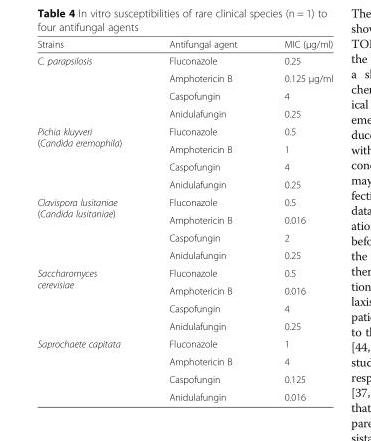table: (36, 36, 332, 402)
table column: (144, 36, 260, 402), (36, 36, 144, 402), (260, 36, 332, 402)
table column header: (36, 36, 332, 52)
table row: (36, 68, 332, 86), (36, 86, 332, 104), (36, 104, 332, 122), (36, 139, 332, 157), (36, 157, 332, 175), (36, 175, 332, 193), (36, 210, 332, 228), (36, 228, 332, 246), (36, 263, 332, 281), (36, 281, 332, 299), (36, 316, 332, 334), (36, 334, 332, 352), (36, 352, 332, 370), (36, 122, 332, 139), (36, 193, 332, 210), (36, 246, 332, 263), (36, 299, 332, 316), (36, 370, 332, 387), (36, 36, 332, 52), (36, 52, 332, 68), (36, 387, 332, 402)
table spanning cell: (36, 122, 144, 193), (36, 263, 144, 334), (36, 52, 144, 122), (36, 193, 144, 263), (36, 334, 144, 402)
